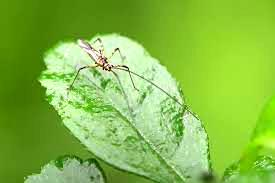Helopeltis-insect: (73, 30, 120, 79)
